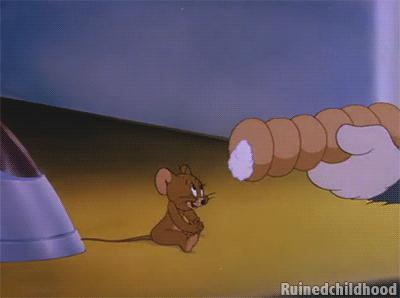jerry: (80, 164, 217, 254)
